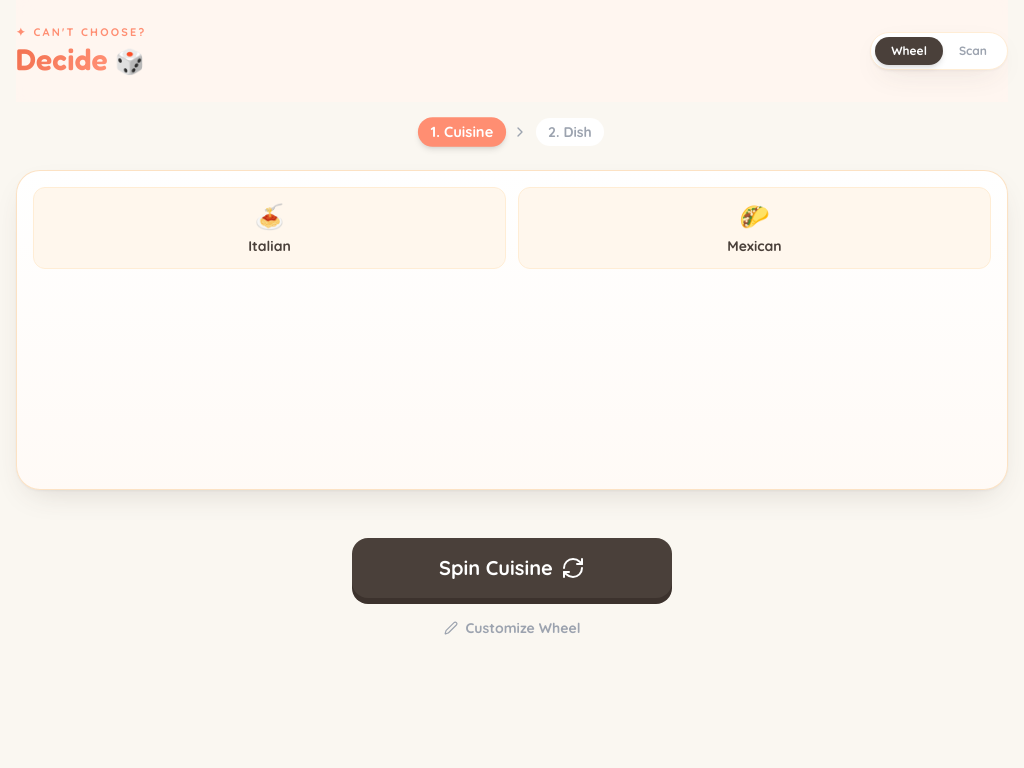
DeciderWheel Component › completes cuisine to dish spin flow
The width and height of the screenshot is (1024, 768).
Expected: the text "Italian" is shown, [248,237,291,255]
Click the button "Spin Cuisine" at {"x": 512, "y": 568}, box [352,538,672,598]
Wait 3000 ms
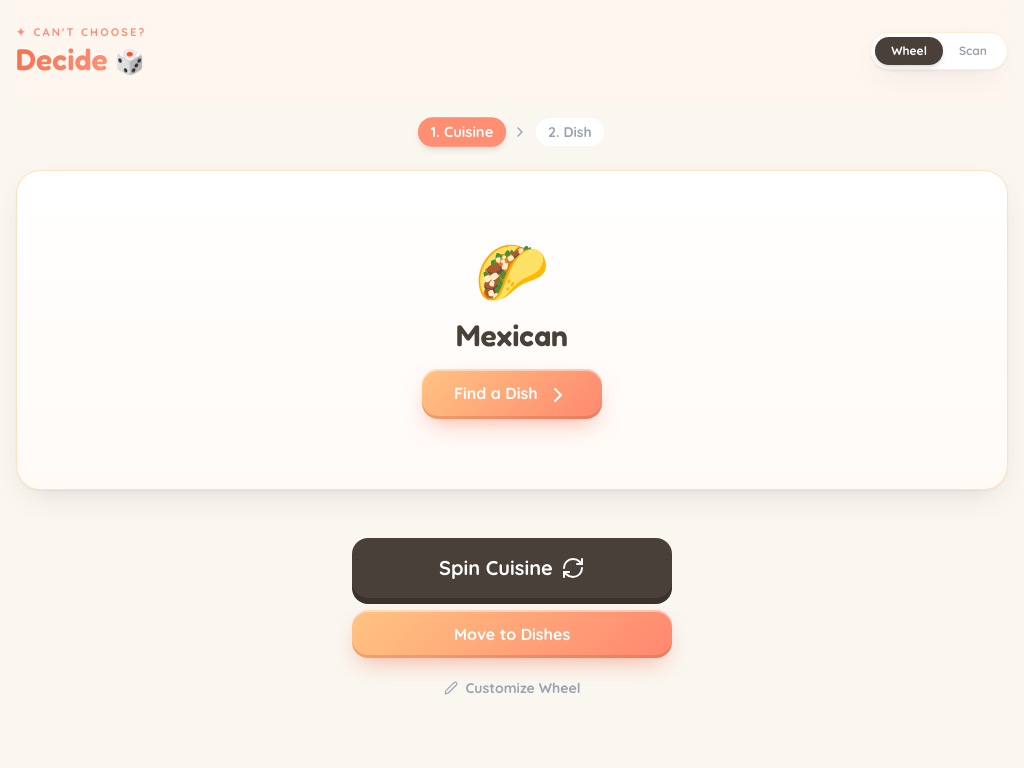
Click the button "Find a Dish" at {"x": 512, "y": 394}, box [422,369,602,419]
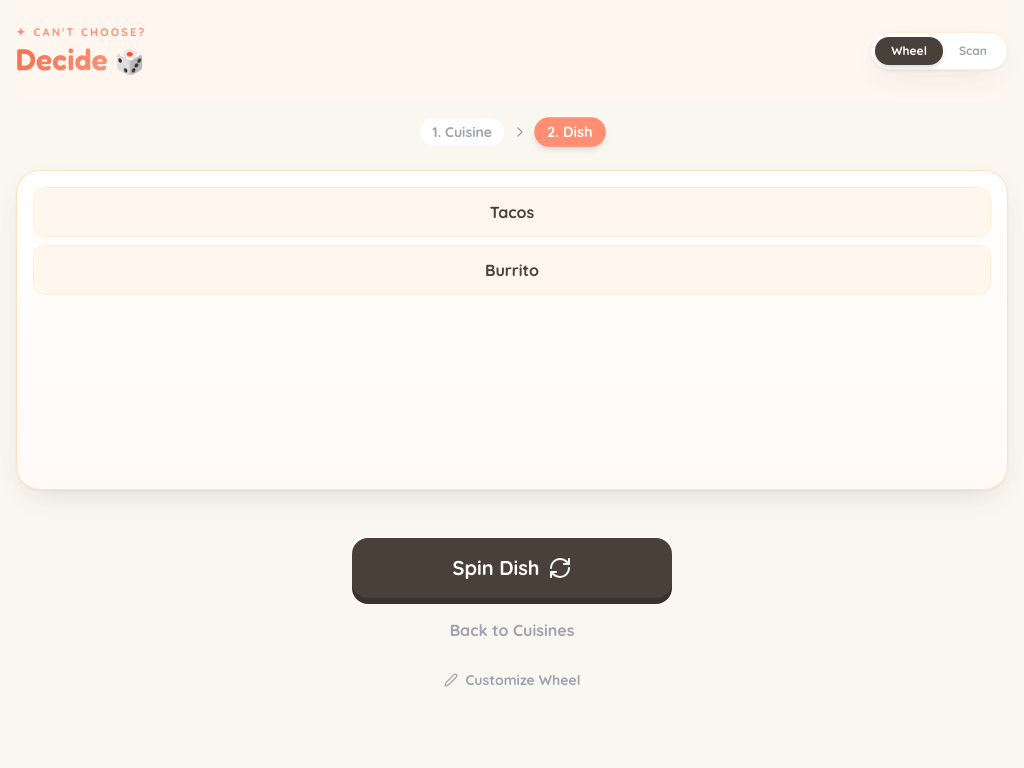
Click the button "Spin Dish" at {"x": 512, "y": 568}, box [352,538,672,598]
Wait 3000 ms
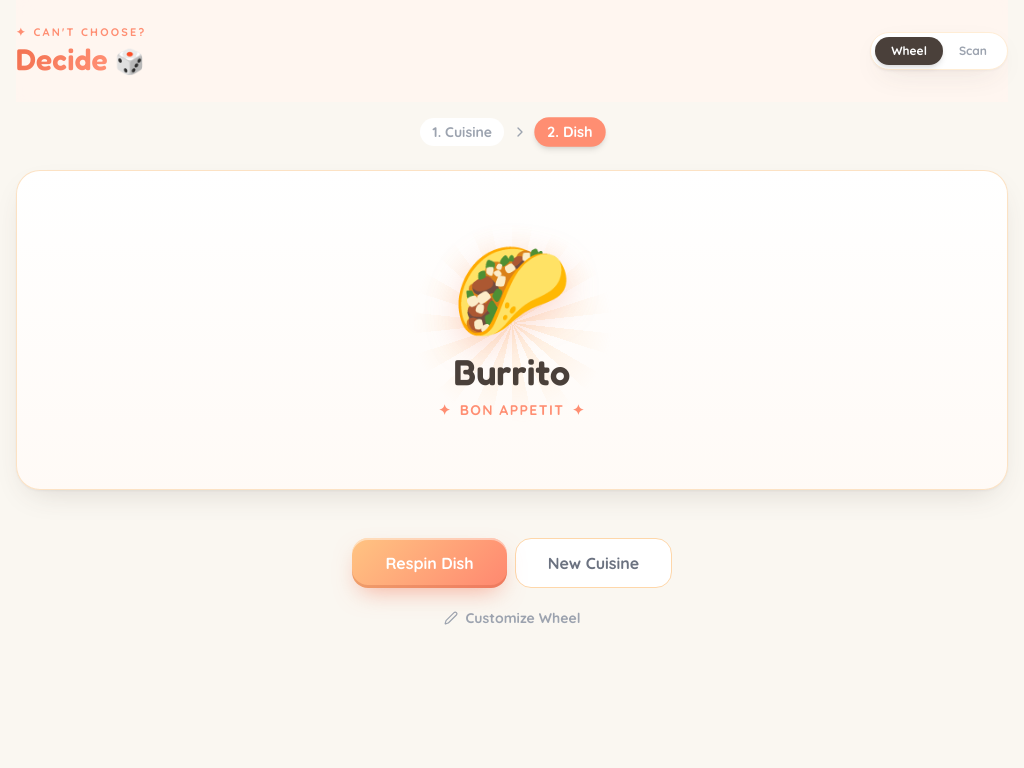
Expected: the text "✦ Bon Appetit ✦" is shown, [438,400,585,420]
